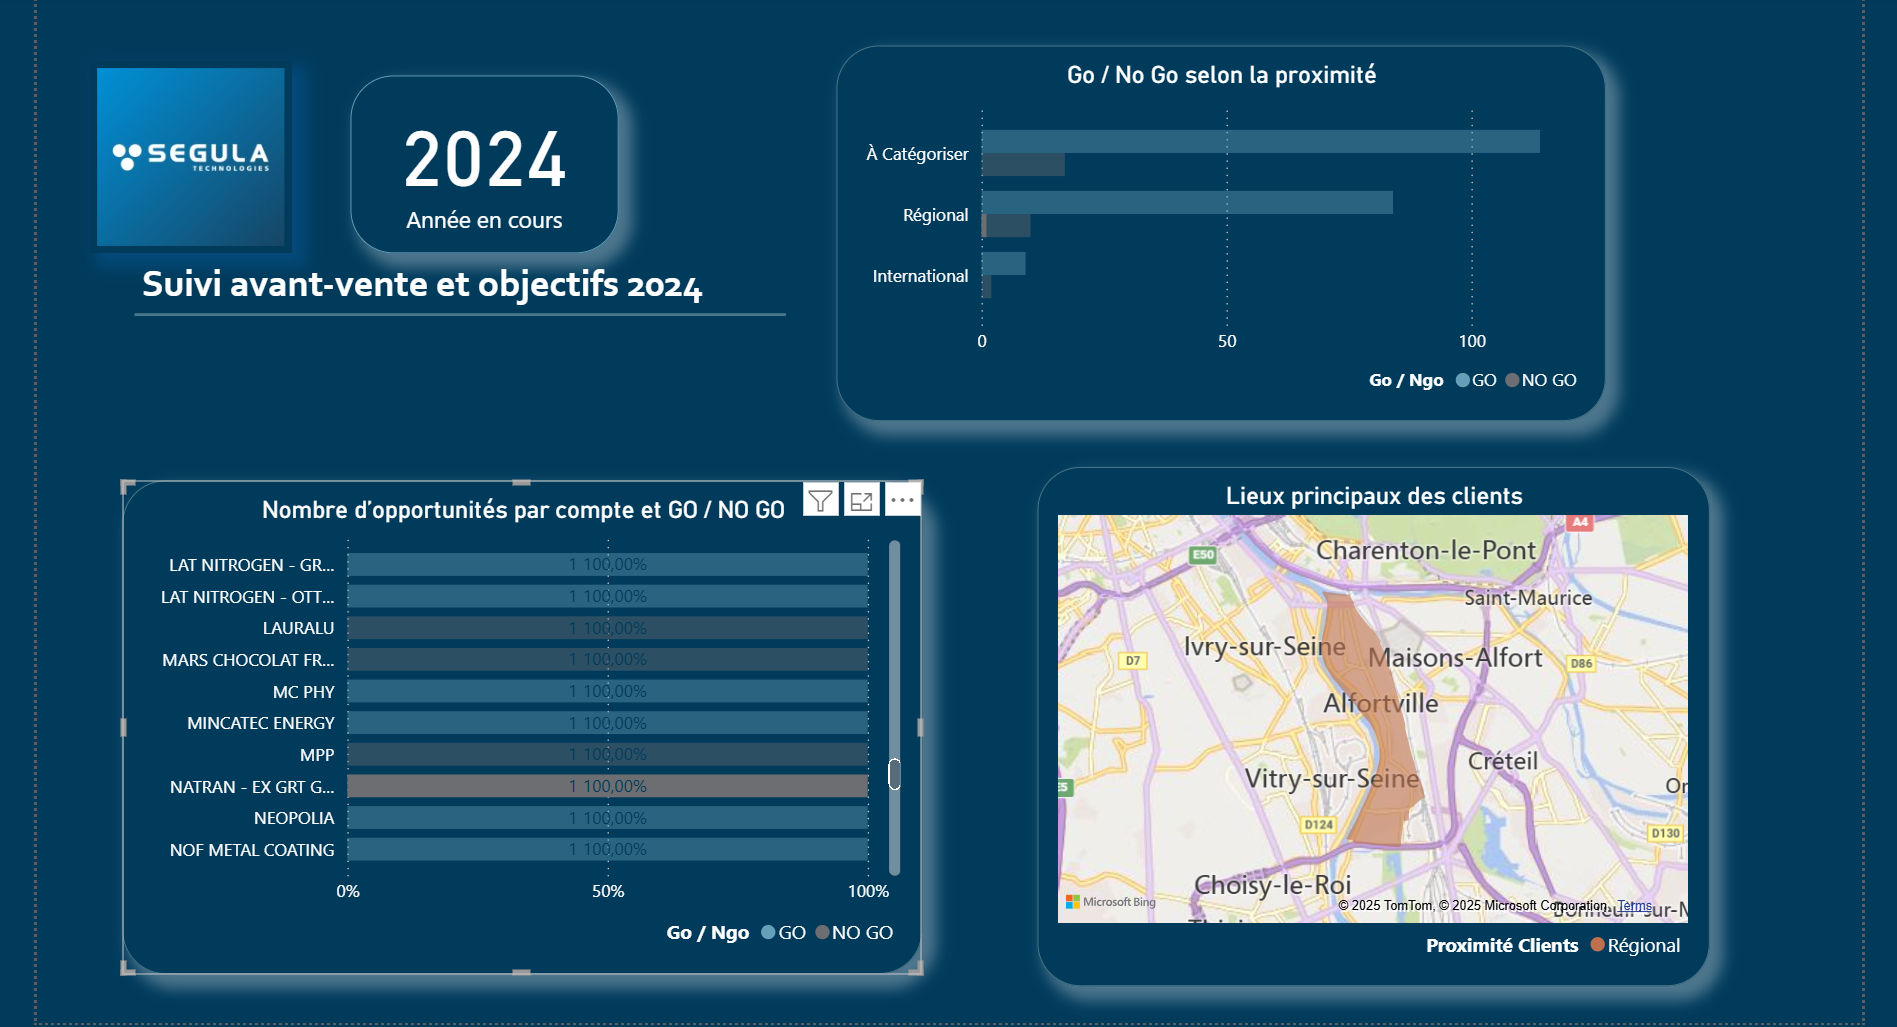

This screenshot's page, from the dashboard's own definition file:
{"tool":"powerbi","page":{"name":"Suvie AO","canvas":[1280,720],"ordinal":6},"visuals":[{"type":"image","box":[37,45.3,142,134.8],"z":0},{"type":"shape","box":[67.9,148.2,456.8,150.2],"z":1000},{"type":"textbox","box":[67.9,180.1,456.8,150.2],"z":2000},{"type":"hundredPercentStackedBarChart","title":"Nombre d’opportunités par compte et GO / NO GO","fields":{"Y":["Base commerciale H12SNZ.Nombre_opportunités"],"Category":["Base commerciale H12SNZ.Compte"],"Series":["Base commerciale H12SNZ.Go / Ngo"]},"box":[59.7,339.5,560.8,345.7],"z":3000},{"type":"clusteredBarChart","title":"Go / No Go selon la proximité","fields":{"Category":["Base commerciale H12SNZ.Proximité Clients"],"Y":["Base commerciale H12SNZ.Nombre_opportunités"],"Series":["Base commerciale H12SNZ.Go / Ngo"]},"box":[560.8,35,539.2,263.4],"z":4000},{"type":"filledMap","title":"Lieux principaux des clients","fields":{"Series":["Base commerciale H12SNZ.Proximité Clients"],"Category":["Base commerciale H12SNZ.Compte"]},"box":[701.7,330.3,471.3,364.2],"z":5000},{"type":"card","fields":{"Values":["CalendrierMois.Année en cours (données)"]},"box":[220.2,55.6,188.3,124.5],"z":6000}]}

Visuals, with their boxes on the page's 1280x720 design canvas (x1, y1, x2, y2). These are canvas units, not pixel positions in the 1897x1027 screenshot, which may show the page scaled, cropped or inside an application window:
image: bbox(37, 45, 179, 180)
shape: bbox(68, 148, 525, 298)
textbox: bbox(68, 180, 525, 330)
"Nombre d’opportunités par compte et GO / NO GO" hundredPercentStackedBarChart: bbox(60, 340, 620, 685)
"Go / No Go selon la proximité" clusteredBarChart: bbox(561, 35, 1100, 298)
"Lieux principaux des clients" filledMap: bbox(702, 330, 1173, 694)
card - CalendrierMois.Année en cours (données): bbox(220, 56, 408, 180)
